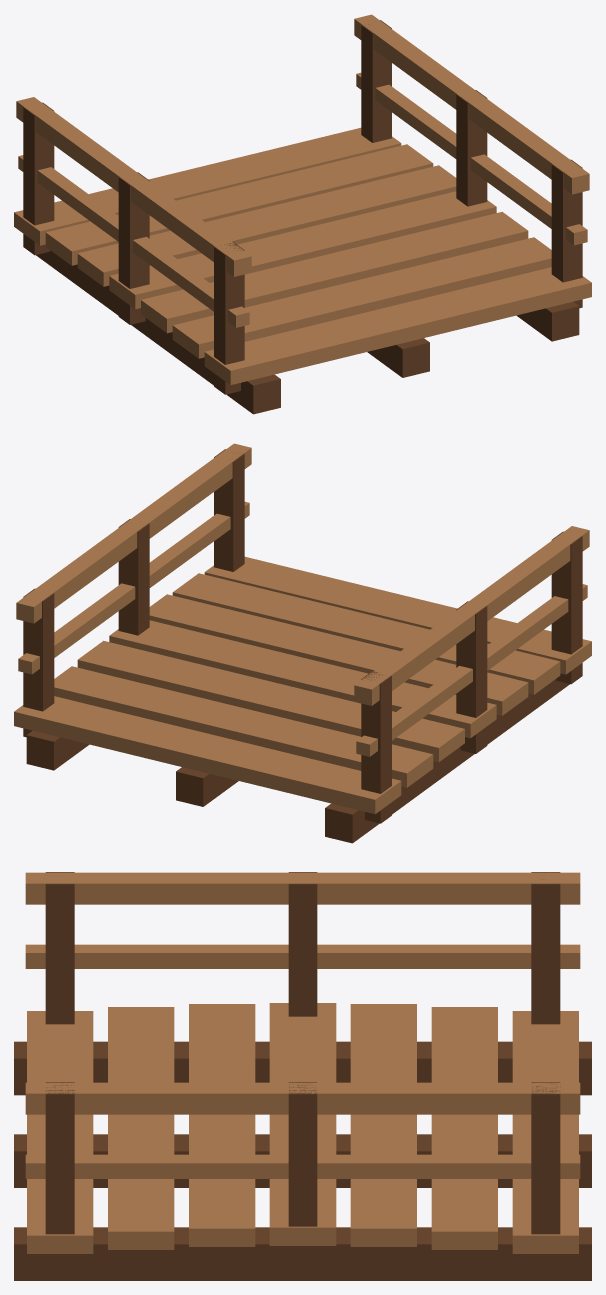
Rendered from bridge_wood.glb.
The picture shows the model from 3 angles, top to bottom: view 1: azimuth 30°, elevation 25°; view 2: azimuth 150°, elevation 25°; view 3: azimuth 270°, elevation 25°; orthographic projection. The views are drawn at different scales.
Visible parts, largest first — view 1: bridge_wood; view 2: bridge_wood; view 3: bridge_wood.
Part boxes in pixels (bbox=[...]): bridge_wood: bbox=[14, 14, 591, 414]; bridge_wood: bbox=[14, 443, 591, 843]; bridge_wood: bbox=[14, 872, 591, 1280].
Bounding box in the file's own units: 0.92 × 0.375 × 1.
